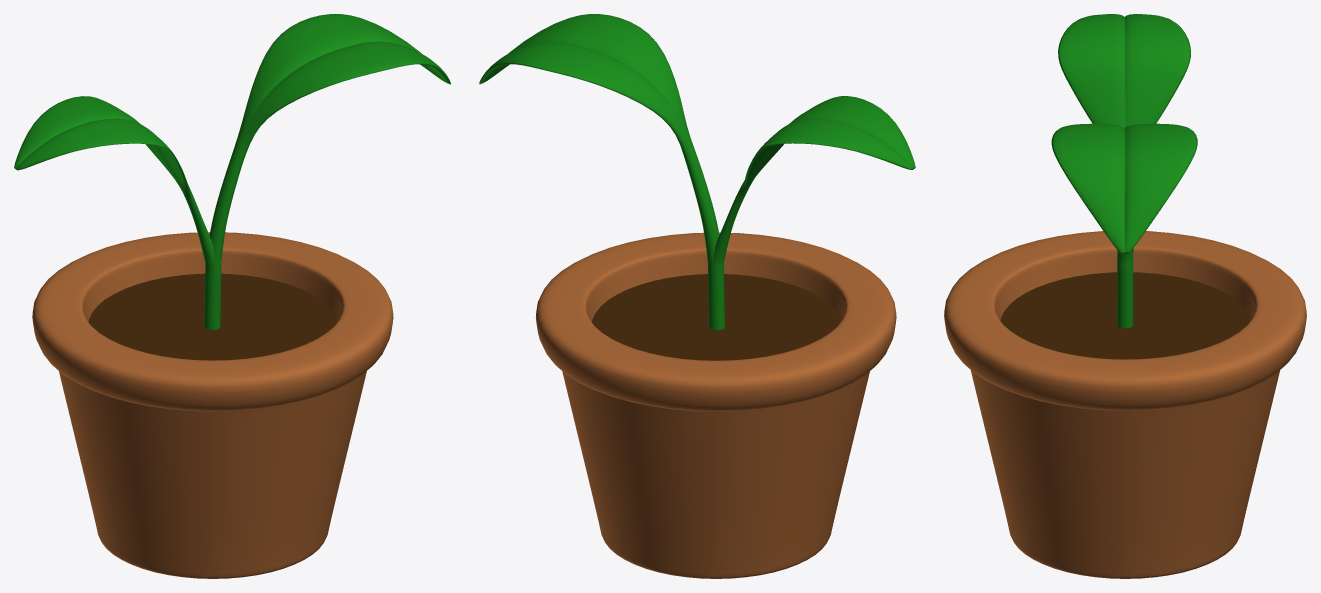
File: POTTED_PLANT.fbx
3 views of the same model, side by side, from view 1: azimuth 30°, elevation 25°; view 2: azimuth 150°, elevation 25°; view 3: azimuth 270°, elevation 25° (orthographic).
Parts seen in each view (by area): view 1: Pot.001; view 2: Pot.001; view 3: Pot.001.
Part boxes in pixels (left/top/right/bottom): Pot.001: left=14, top=14, right=450, bottom=578; Pot.001: left=479, top=14, right=915, bottom=578; Pot.001: left=944, top=14, right=1306, bottom=578.
Bounding box in the file's own units: 157 × 158 × 113.
